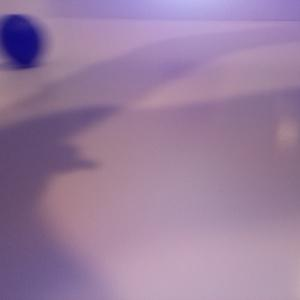dead_ball: (1, 14, 44, 64)
